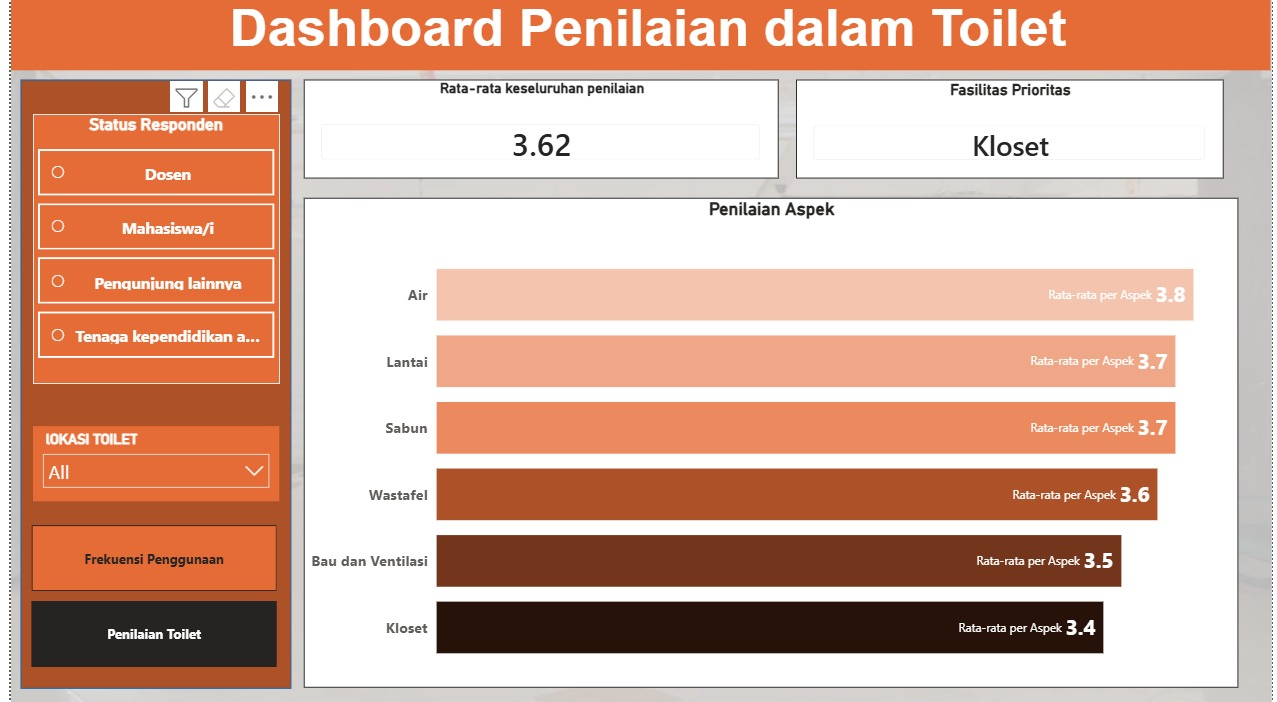

Layout of this report page (visuals, bound fields, positions):
{"tool":"powerbi","page":{"name":"Penilaian Toilet","canvas":[1280,720],"ordinal":1},"visuals":[{"type":"image","box":[0,0,1280.7,720.7],"z":0},{"type":"textbox","box":[0,0,1279.3,78.2],"z":1000},{"type":"cardVisual","title":"Rata-rata keseluruhan penilaian","fields":{"Data":["OfficeForms Table.Rata-rata Keseluruhan"]},"box":[297.5,87.5,482.5,100],"z":2000},{"type":"clusteredBarChart","title":"Penilaian Aspek","fields":{"Category":["Daftar Aspek.Aspek"],"Y":["Daftar Aspek.Rata-rata per Aspek"]},"box":[297.5,208.8,948.8,497.5],"z":3000},{"type":"shape","box":[9.8,88,275.1,618.7],"z":4000},{"type":"advancedSlicerVisual","title":"Status Responden","fields":{"Values":["OfficeForms Table.Apa status kamu di lingkungan Departemen Statistika Bisnis?"]},"box":[21.7,123.3,250,273.3],"z":5000},{"type":"pageNavigator","box":[20.9,540.5,250,145.2],"z":6000},{"type":"cardVisual","title":"Fasilitas Prioritas","fields":{"Data":["Daftar Aspek.Fasilitas Prioritas"]},"box":[798,88,434,100],"z":7000},{"type":"slicer","fields":{"Values":["OfficeForms Table.Di lokasi toilet mana kamu melakukan penilaian?"]},"box":[21.7,440,250,76.7],"z":8000}]}

Visuals, with their boxes in screenshot pixels (x1, y1, x2, y2), scaled from the page's 1280x720 canvas onto the 1277x702 screenshot:
image: [0,0,1276,701]
textbox: [0,0,1276,76]
"Rata-rata keseluruhan penilaian" cardVisual: [297,85,778,183]
"Penilaian Aspek" clusteredBarChart: [297,204,1243,689]
shape: [10,86,284,689]
"Status Responden" advancedSlicerVisual: [22,120,271,387]
pageNavigator: [21,527,270,669]
"Fasilitas Prioritas" cardVisual: [796,86,1229,183]
slicer - OfficeForms Table.Di lokasi toilet mana kamu melakukan penilaian?: [22,429,271,504]
